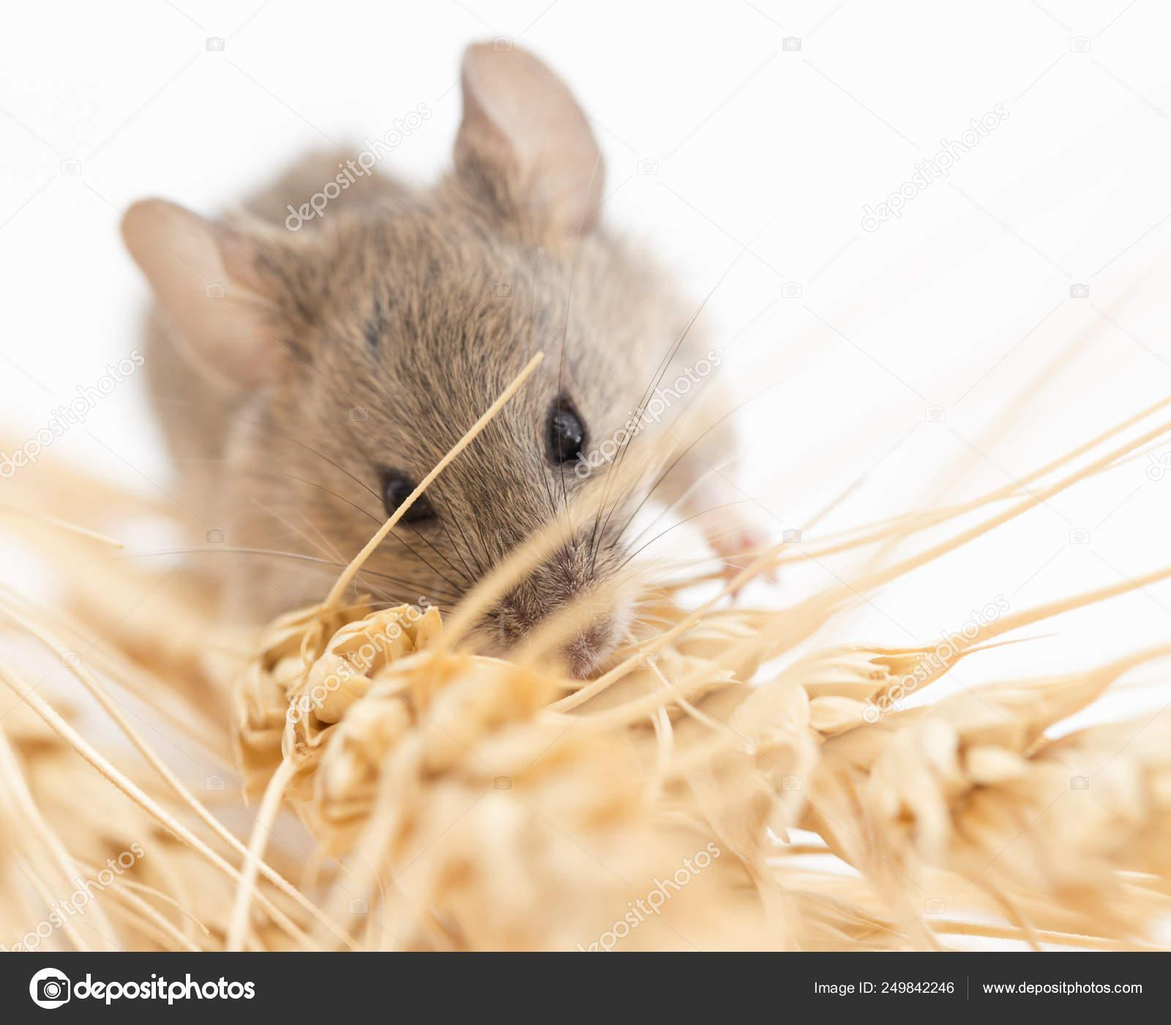rat: (115, 41, 785, 681)
